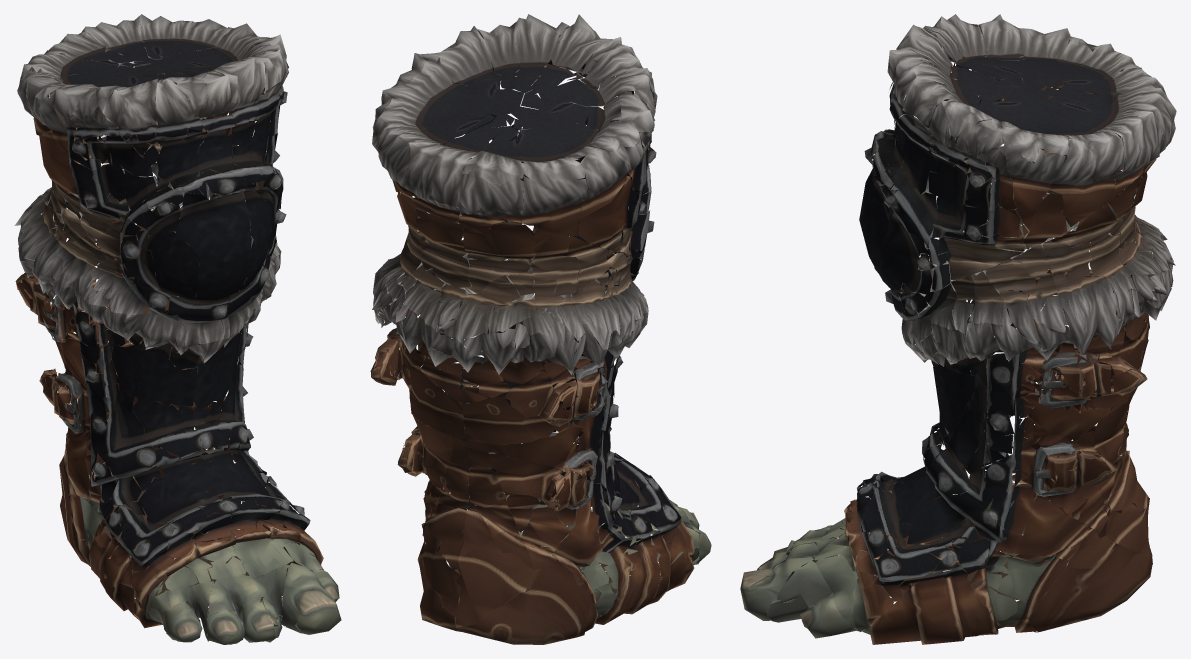
The model's file is lo_boot.glb.
3 views of the same model, side by side, from view 1: azimuth 30°, elevation 25°; view 2: azimuth 150°, elevation 25°; view 3: azimuth 270°, elevation 25° (orthographic). The views are drawn at different scales.
Visible parts, largest first — view 1: Mesh_0; view 2: Mesh_0; view 3: Mesh_0.
Boxes of the visible parts, x1,y1,x2,y2 form: Mesh_0: [14, 14, 341, 644]; Mesh_0: [370, 14, 711, 644]; Mesh_0: [740, 14, 1176, 644].
Bounding box in the file's own units: 0.905 × 1.91 × 1.35.
1 material, 1 textured.
